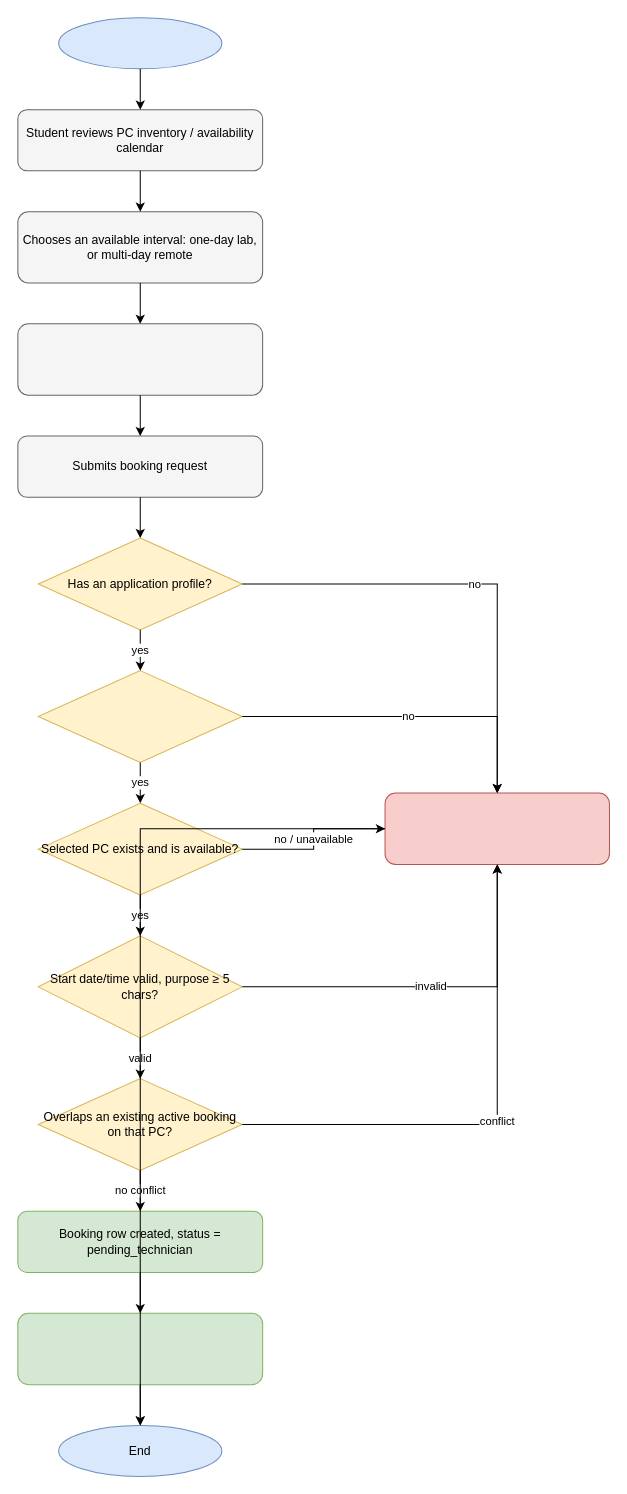
Image size: 627x1494. Some labels were removed from this diagram. Each missing label, with the box of its shape:
Fills the form: PC, dates/times, purpose, optional course: (17, 323, 263, 395)
Has an assigned, eligible Advisor?: (37, 670, 242, 762)
Request rejected — actionable error shown: (384, 792, 609, 864)
Start: (58, 17, 222, 69)
Student sees request detail and approval progress: (17, 1312, 263, 1385)
